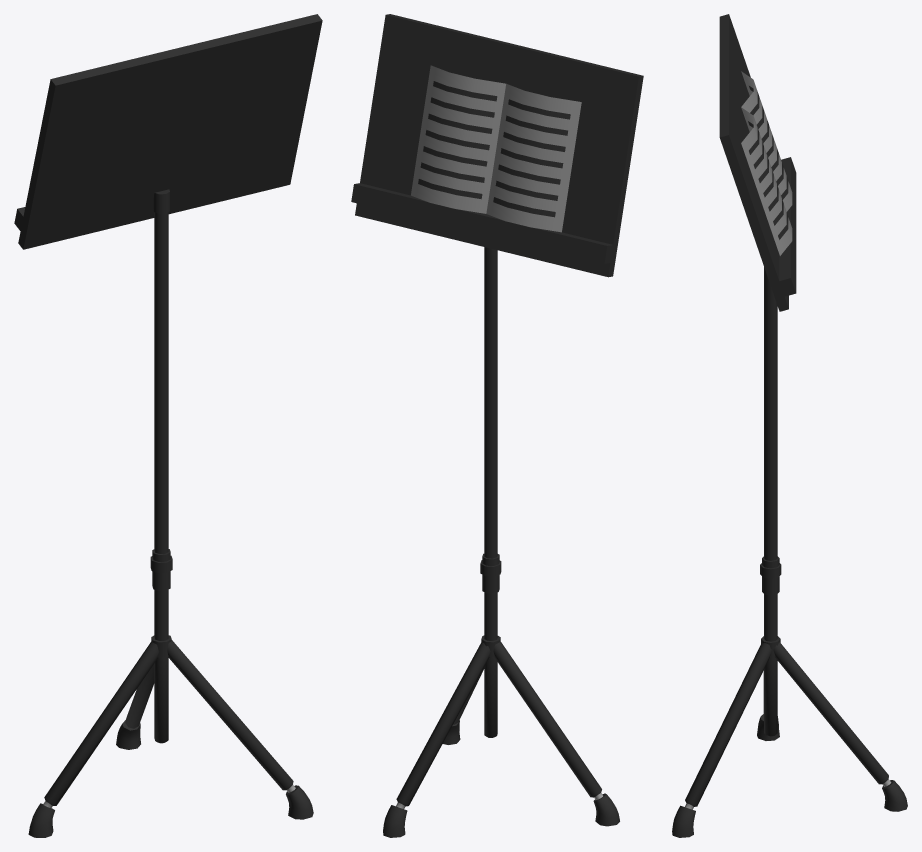
Rendered from MusicNoteStand_01.fbx.
The picture shows the model from 3 angles, left to right: view 1: azimuth 30°, elevation 25°; view 2: azimuth 150°, elevation 25°; view 3: azimuth 270°, elevation 25°; orthographic projection. The views are drawn at different scales.
Visible parts, largest first — view 1: MusicNoteStand_01; view 2: MusicNoteStand_01; view 3: MusicNoteStand_01.
Boxes of the visible parts, bbox=[...] form: MusicNoteStand_01: bbox=[14, 14, 322, 837]; MusicNoteStand_01: bbox=[351, 14, 643, 837]; MusicNoteStand_01: bbox=[672, 14, 907, 837].
Size of the model in its own units: 0.5467 by 1.51 by 0.4505.
